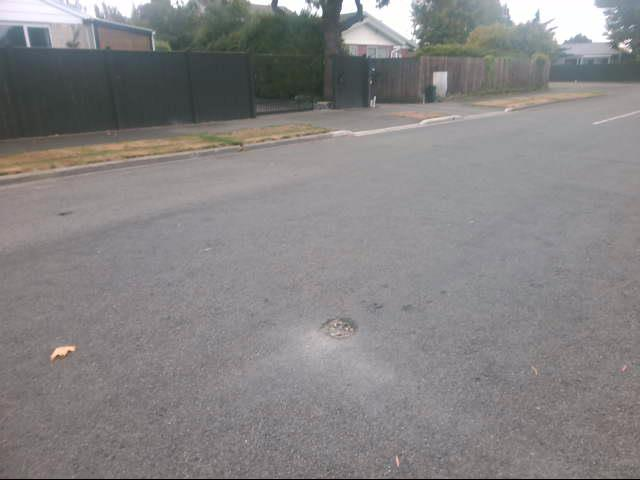pothole: (318, 312, 359, 342)
